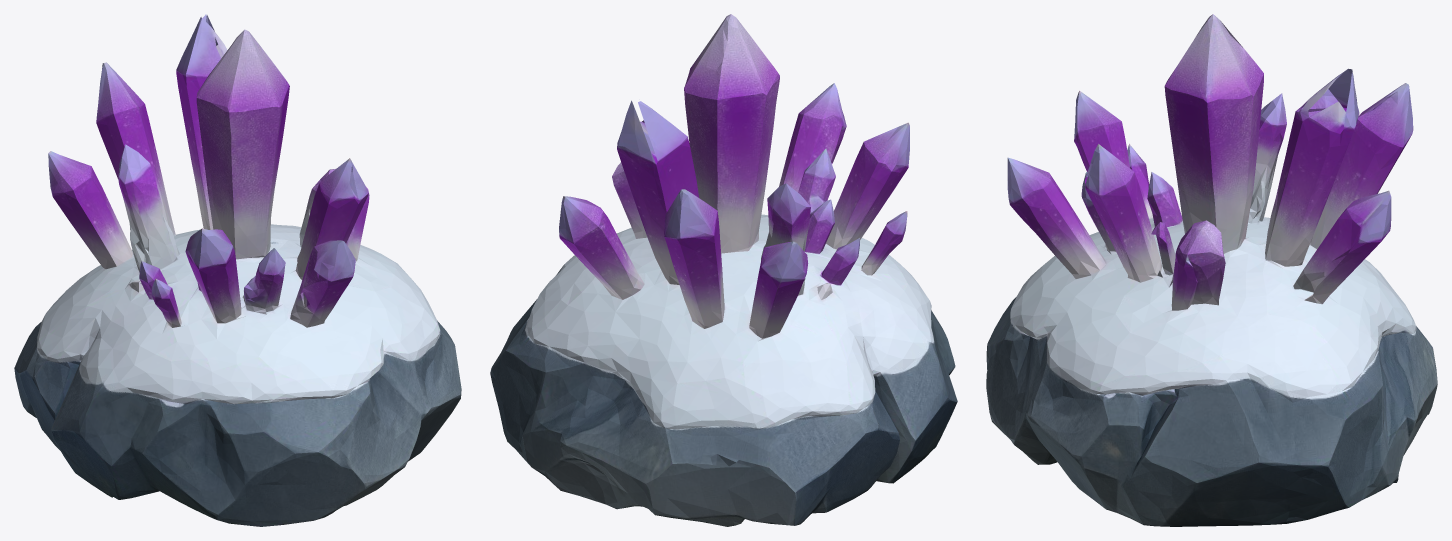
File: crystal.glb
3 views of the same model, side by side, from view 1: azimuth 30°, elevation 25°; view 2: azimuth 150°, elevation 25°; view 3: azimuth 270°, elevation 25° (orthographic). The views are drawn at different scales.
Parts seen in each view (by area): view 1: geometry_0; view 2: geometry_0; view 3: geometry_0.
Boxes of the visible parts, <box> form: geometry_0: <box>14,14,461,526</box>; geometry_0: <box>490,14,957,526</box>; geometry_0: <box>986,14,1437,526</box>.
Bounding box in the file's own units: 0.9496 × 0.9986 × 0.9438.
1 material, 1 textured.
